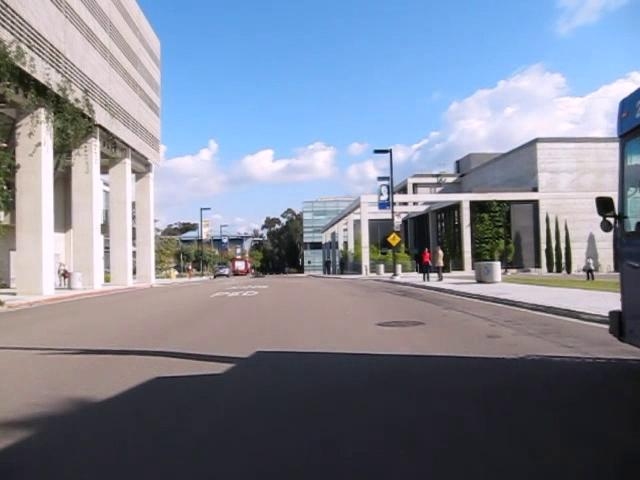pedestrianCrossing: (386, 231, 402, 247)
